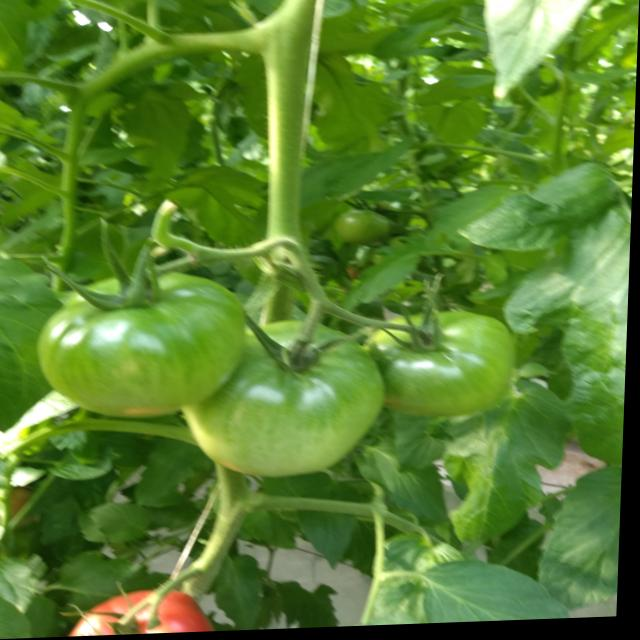yesil: (0, 191, 548, 490)
